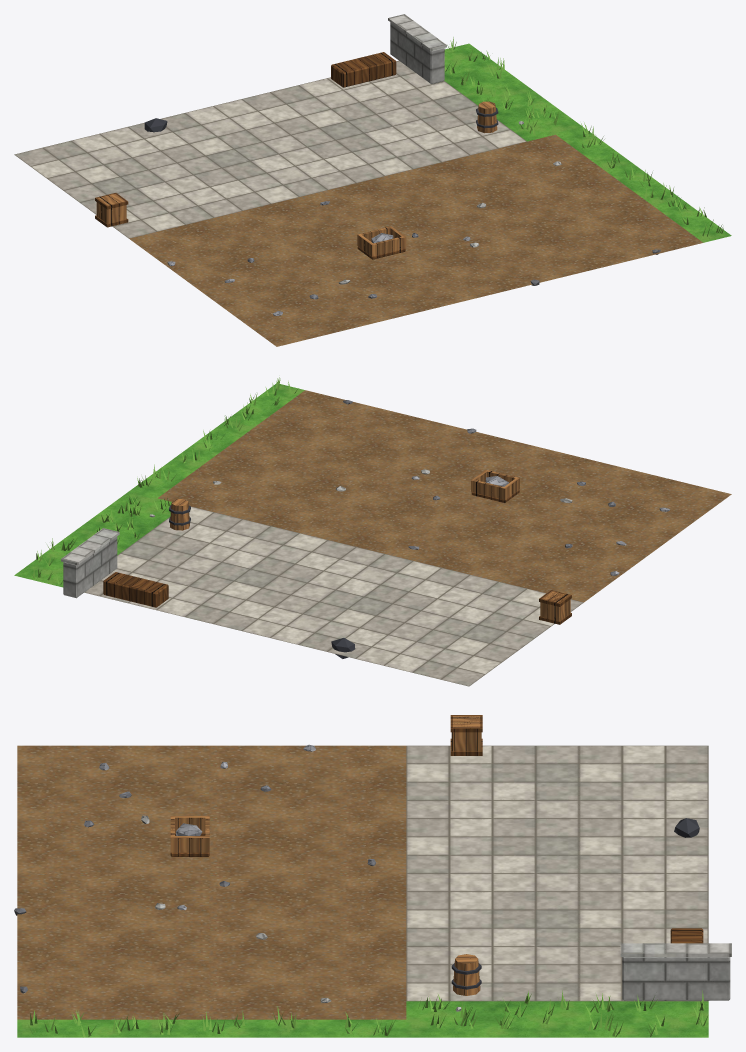
File: chunk_3_7.glb
3 views of the same model, one above another, from view 1: azimuth 30°, elevation 25°; view 2: azimuth 150°, elevation 25°; view 3: azimuth 270°, elevation 25° (orthographic). The views are drawn at different scales.
Parts seen in each view (by area): view 1: chunk_3_7; view 2: chunk_3_7; view 3: chunk_3_7.
Boxes of the visible parts, x1,y1,x2,y2 form: chunk_3_7: (14,14,731,346); chunk_3_7: (14,377,731,686); chunk_3_7: (14,715,731,1037).
Size of the model in its own units: 16.24 by 1.6 by 16.62.
12 materials, 10 textured.
